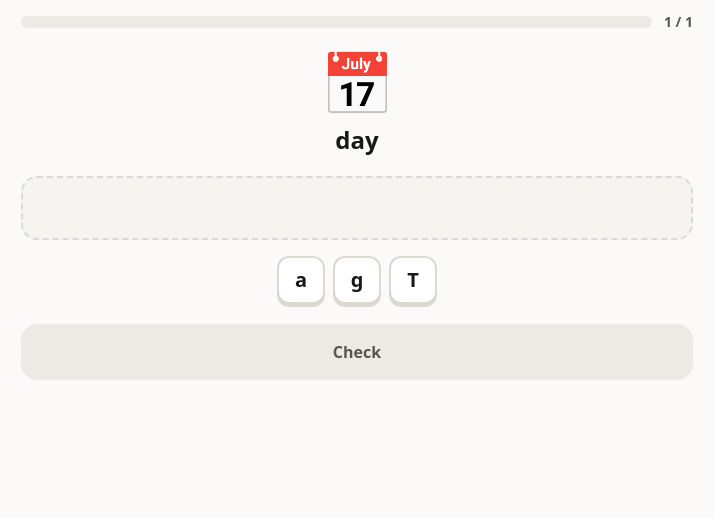
Scenario: Spell › lets you remove a placed letter and shows the right spelling when wrong
This screenshot has width=715, height=518.
Click the button "g" at (357, 280), box top-left (333, 256), bottom-right (381, 304)
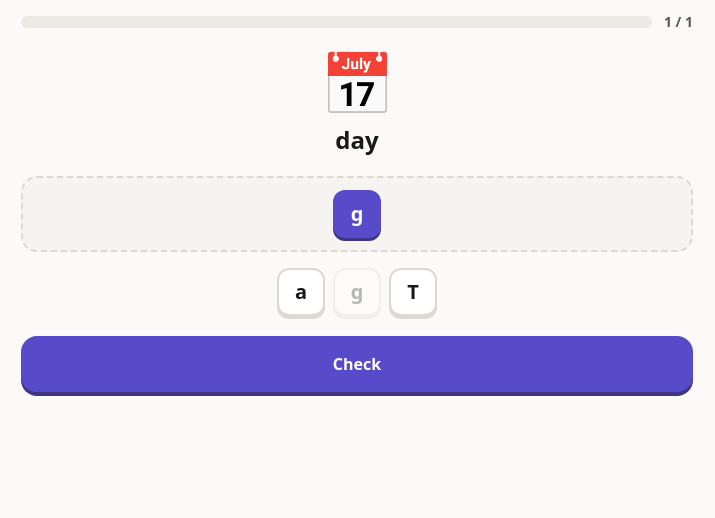
Click the button "a" at (301, 292), box top-left (277, 268), bottom-right (325, 316)
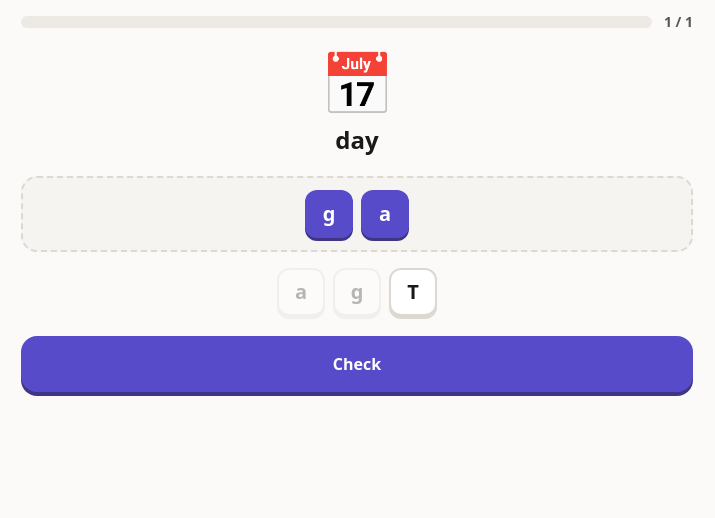
Click the button "T" at (413, 292), box top-left (389, 268), bottom-right (437, 316)
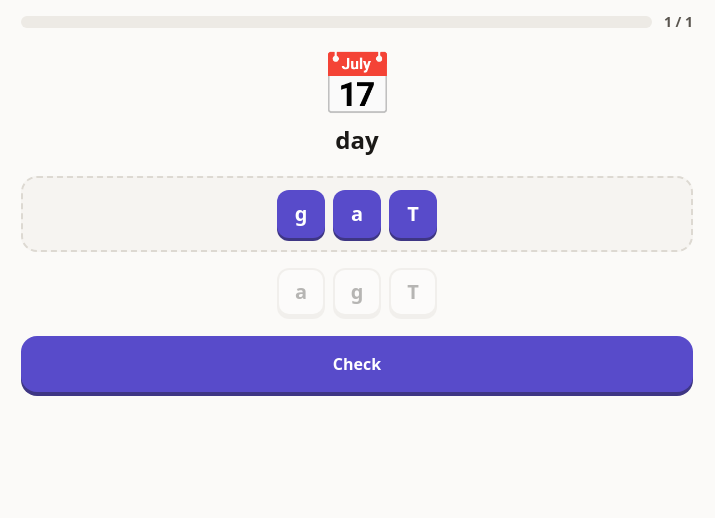
Click the button named "Remove T" at (413, 214), box top-left (389, 190), bottom-right (437, 238)
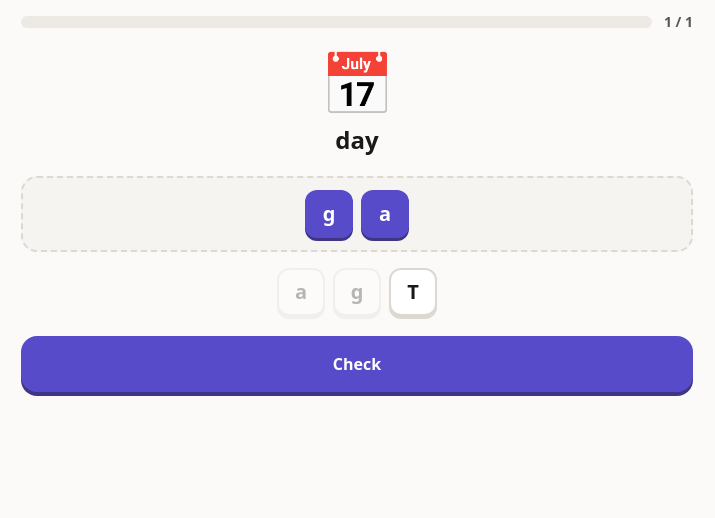
Click the button "T" at (413, 292), box top-left (389, 268), bottom-right (437, 316)
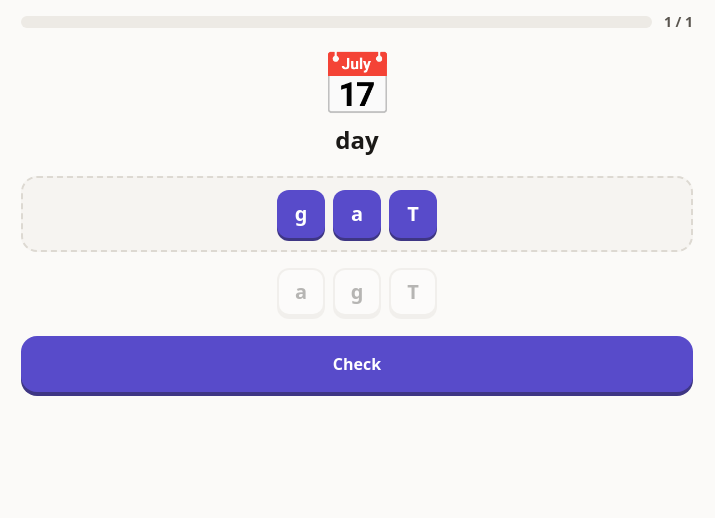
Click the button "Check" at (357, 364), box top-left (21, 336), bottom-right (693, 392)
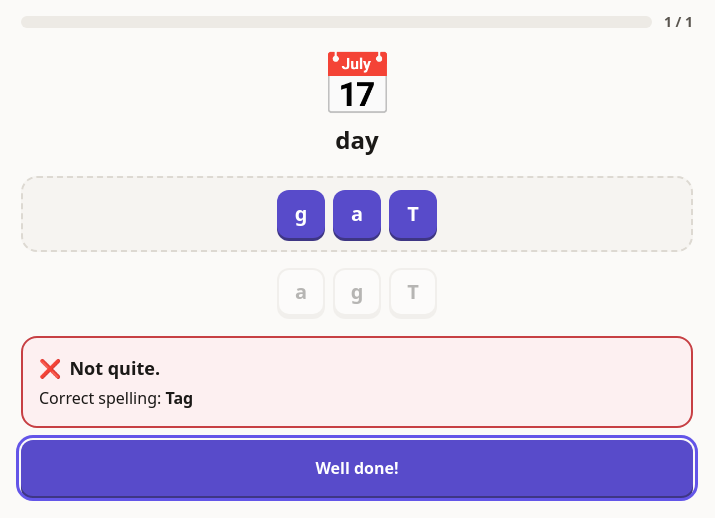
expect the text "Tag" is shown: met, box top-left (165, 387), bottom-right (193, 409)
